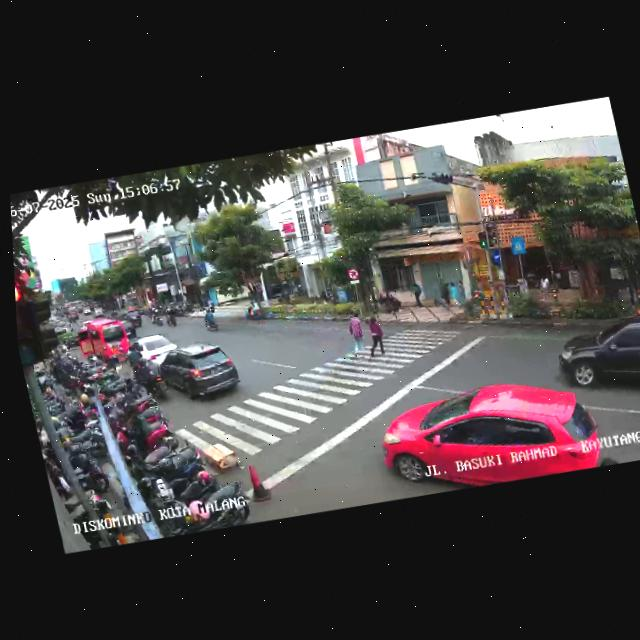car: (373, 368, 610, 502), (550, 308, 640, 406), (149, 337, 246, 411), (72, 314, 133, 371), (126, 330, 182, 377), (121, 307, 144, 327), (123, 316, 139, 343), (636, 375, 640, 453)
motorcycle: (138, 354, 169, 402), (122, 341, 154, 385), (200, 307, 220, 335), (147, 307, 165, 328), (163, 305, 178, 327)
person: (344, 308, 369, 353), (364, 312, 388, 358)
